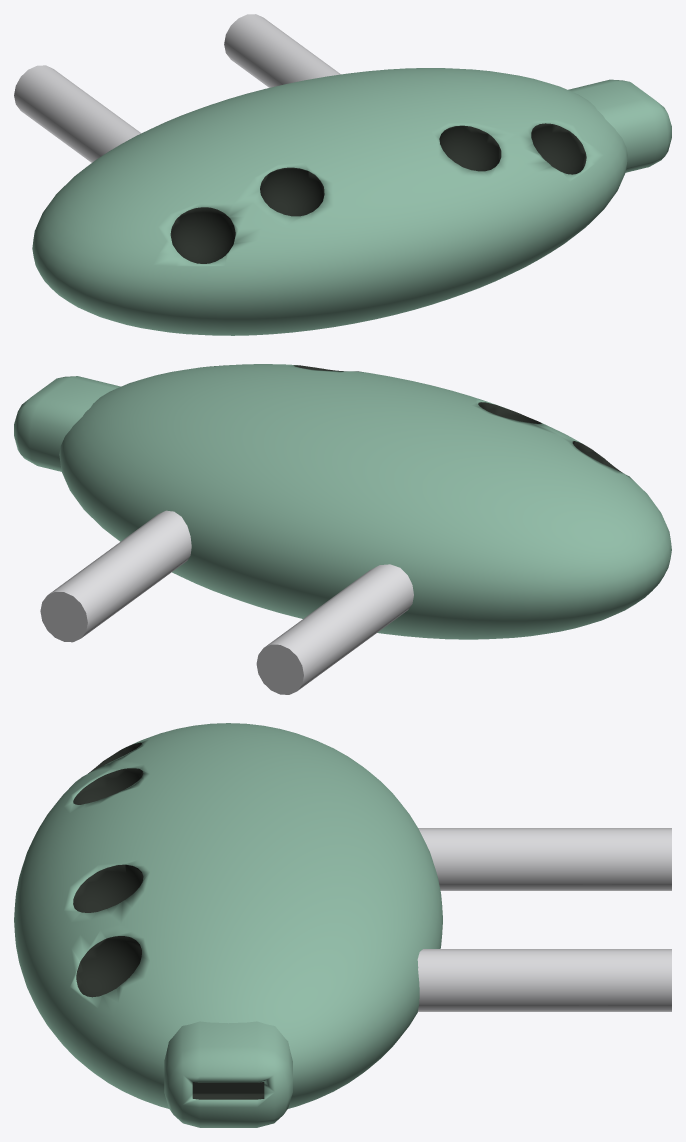
3 renders of one model, top to bottom at view 1: azimuth 30°, elevation 25°; view 2: azimuth 150°, elevation 25°; view 3: azimuth 270°, elevation 25°, orthographic. The views are drawn at different scales.
Visible parts, largest first — view 1: ocarina_default; view 2: ocarina_default; view 3: ocarina_default.
Part boxes in pixels (bbox=[...]): ocarina_default: bbox=[14, 14, 671, 335]; ocarina_default: bbox=[14, 364, 671, 694]; ocarina_default: bbox=[14, 723, 671, 1127].
Bounding box in the file's own units: 0.58 × 0.17 × 0.46.
